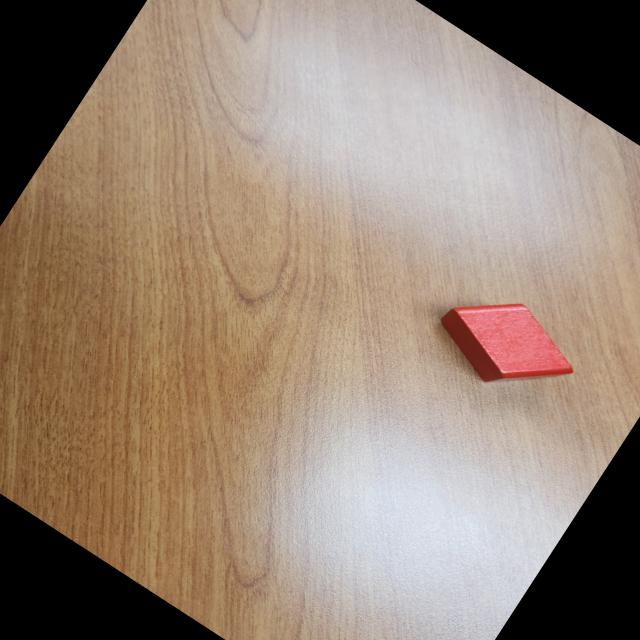red: (424, 270, 592, 422)
